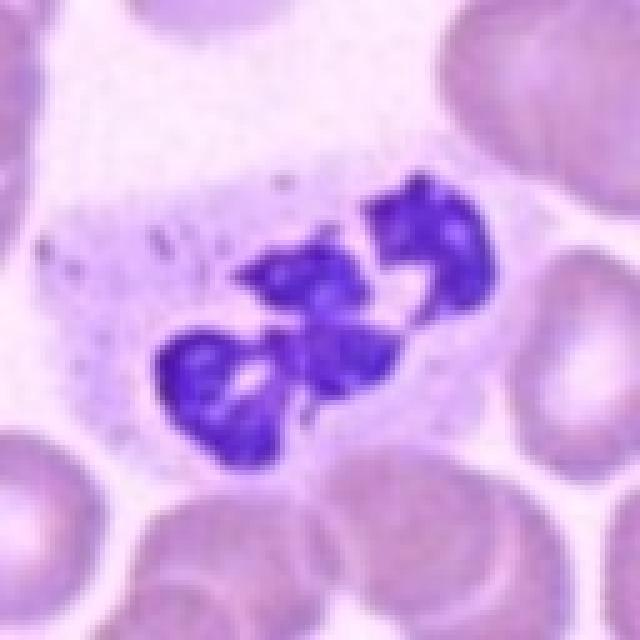neutro: (122, 155, 583, 505)
